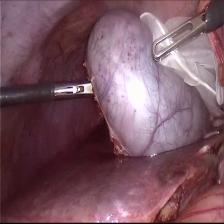Grasper: (147, 8, 211, 67), (55, 80, 95, 104)
Specimen Bag: (141, 4, 224, 133)
